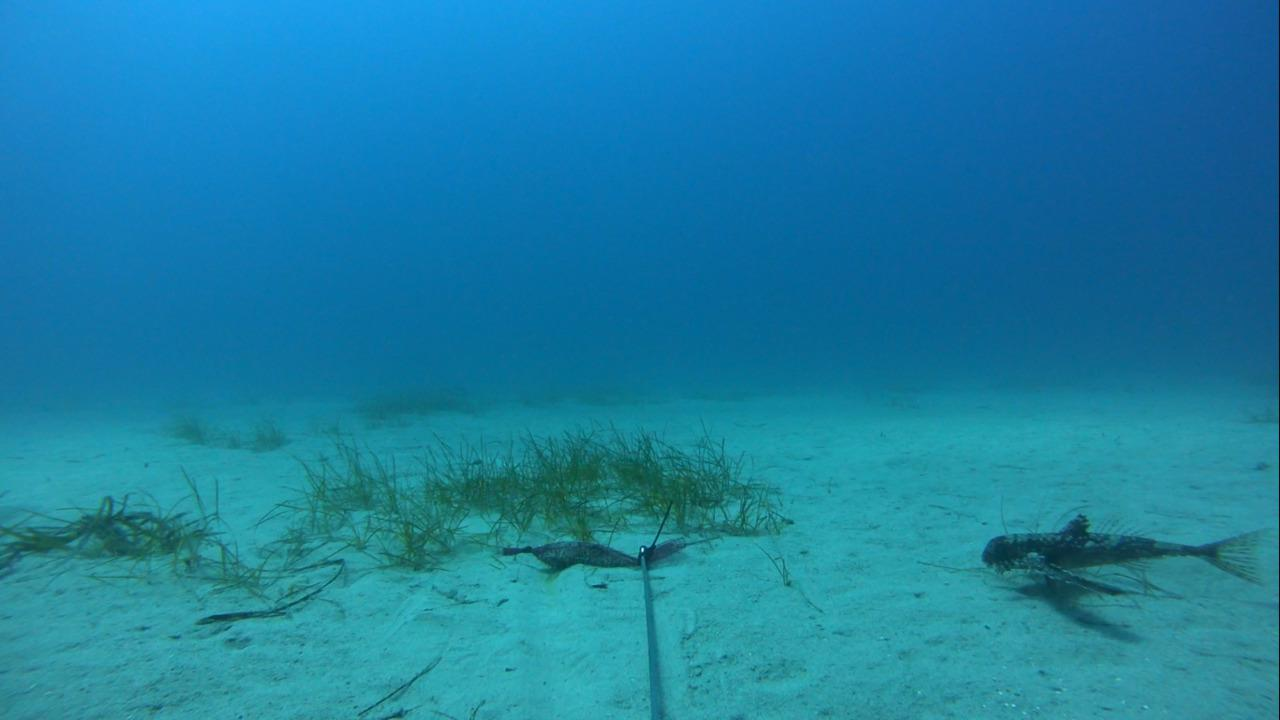dactylopterus: (979, 506, 1272, 606)
